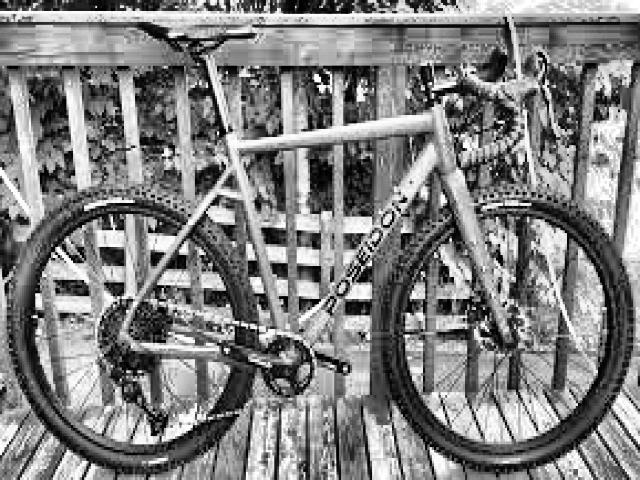cassette: (96, 298, 168, 377)
cranks_set: (220, 321, 320, 403)
rear_derailleur: (113, 370, 173, 437)
saddle: (136, 17, 258, 54)
sti_shifter: (525, 43, 565, 145)
wheel: (376, 184, 638, 468), (4, 184, 261, 472)
